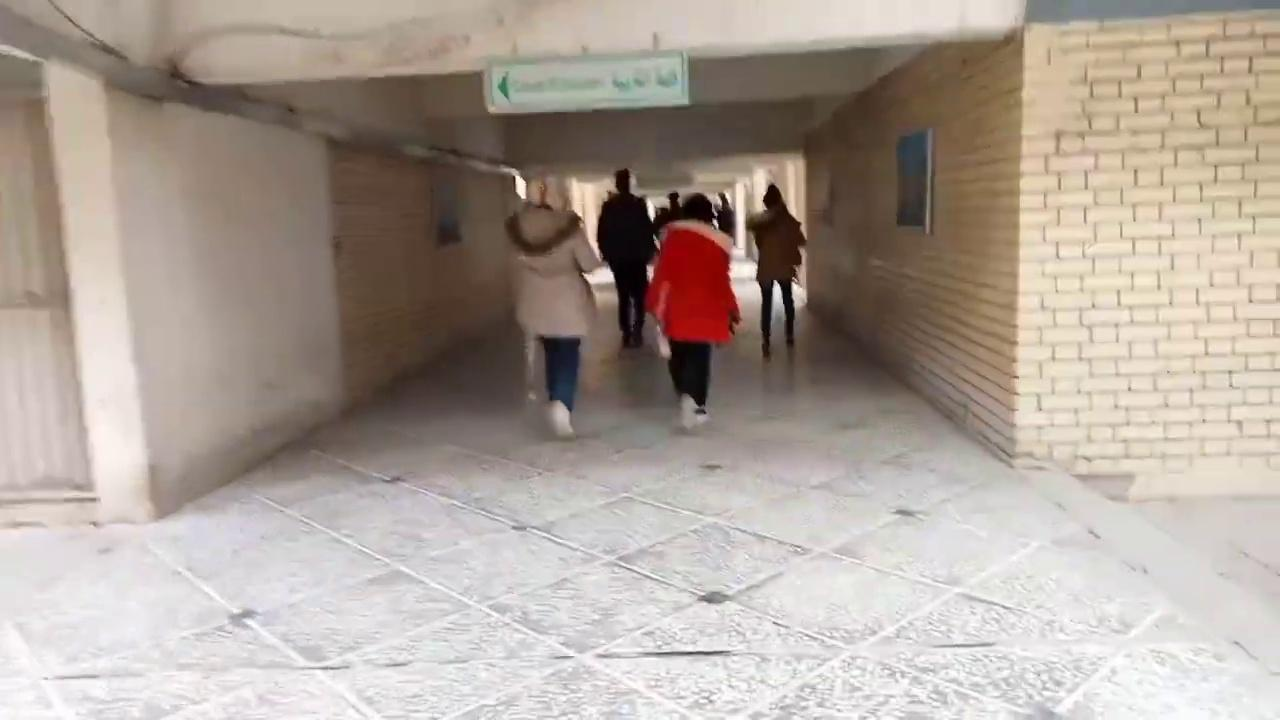person: (503, 172, 601, 438), (644, 192, 742, 432), (596, 167, 658, 348), (745, 183, 806, 357), (714, 191, 735, 243)
